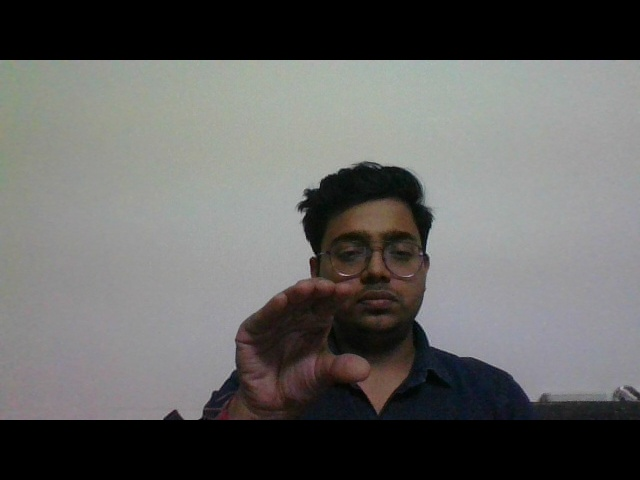no: (211, 261, 409, 423)
